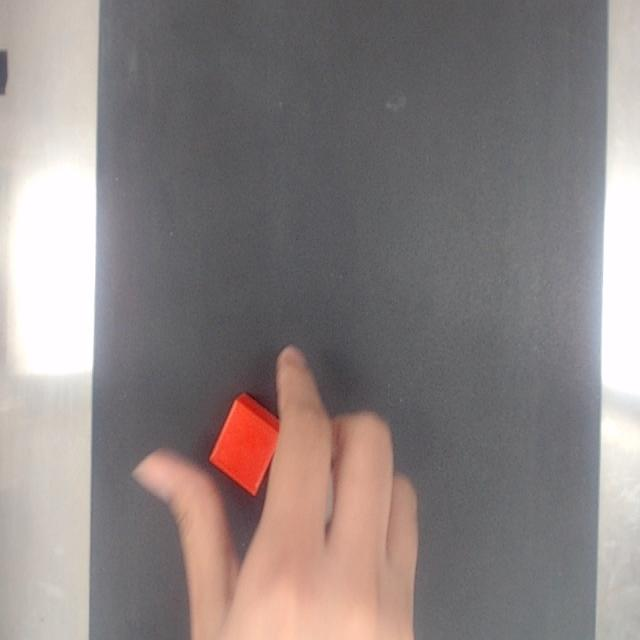Rojo: (209, 393, 279, 496)
